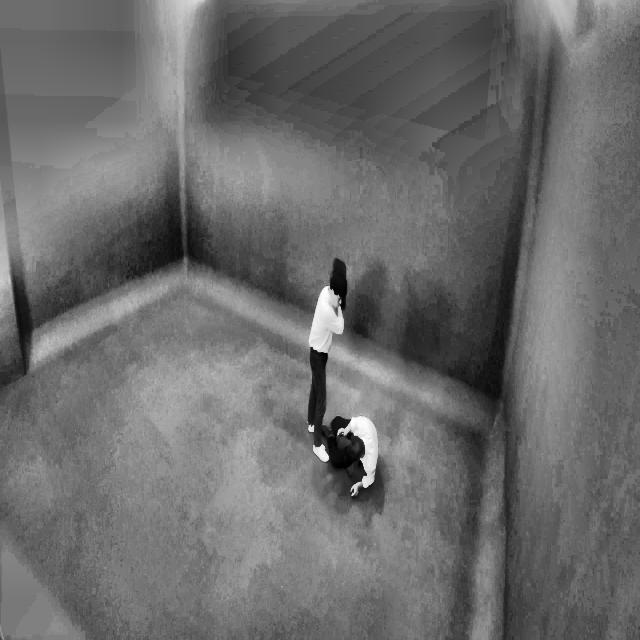assult: (296, 238, 391, 504), (306, 247, 354, 370), (332, 393, 379, 494)
